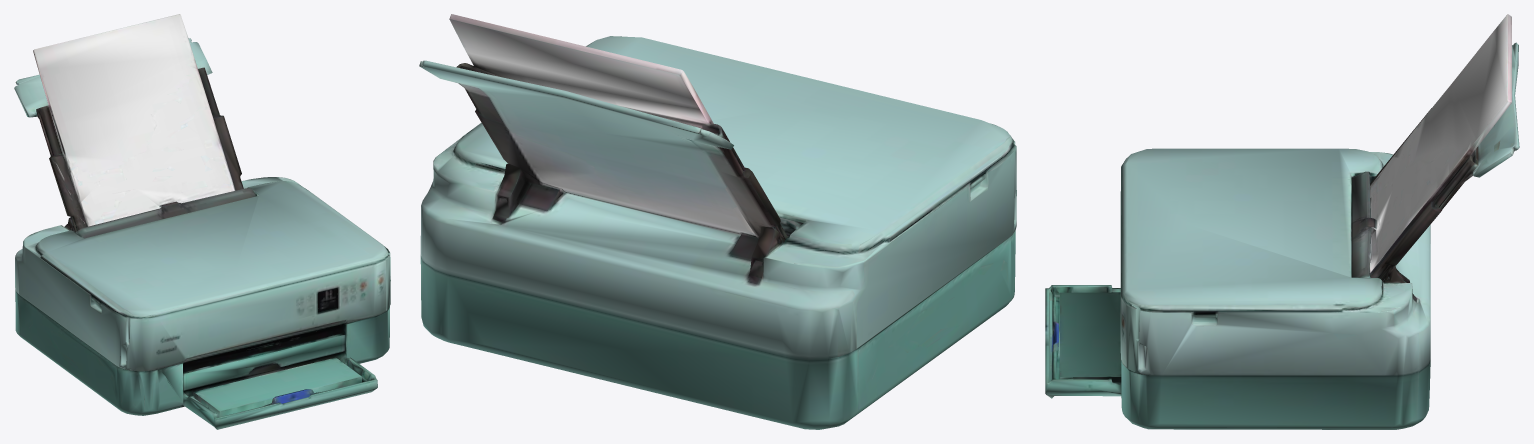
Rendered from printer.glb.
The picture shows the model from 3 angles, left to right: view 1: azimuth 30°, elevation 25°; view 2: azimuth 150°, elevation 25°; view 3: azimuth 270°, elevation 25°; orthographic projection. The views are drawn at different scales.
Visible parts, largest first — view 1: material; view 2: material; view 3: material.
Part boxes in pixels (<box>): material: <box>14,14,390,429</box>; material: <box>419,14,1016,429</box>; material: <box>1045,14,1519,429</box>.
Size of the model in its own units: 0.749 by 0.6434 by 0.9313.
Materials: 1 (1 with a texture image).
